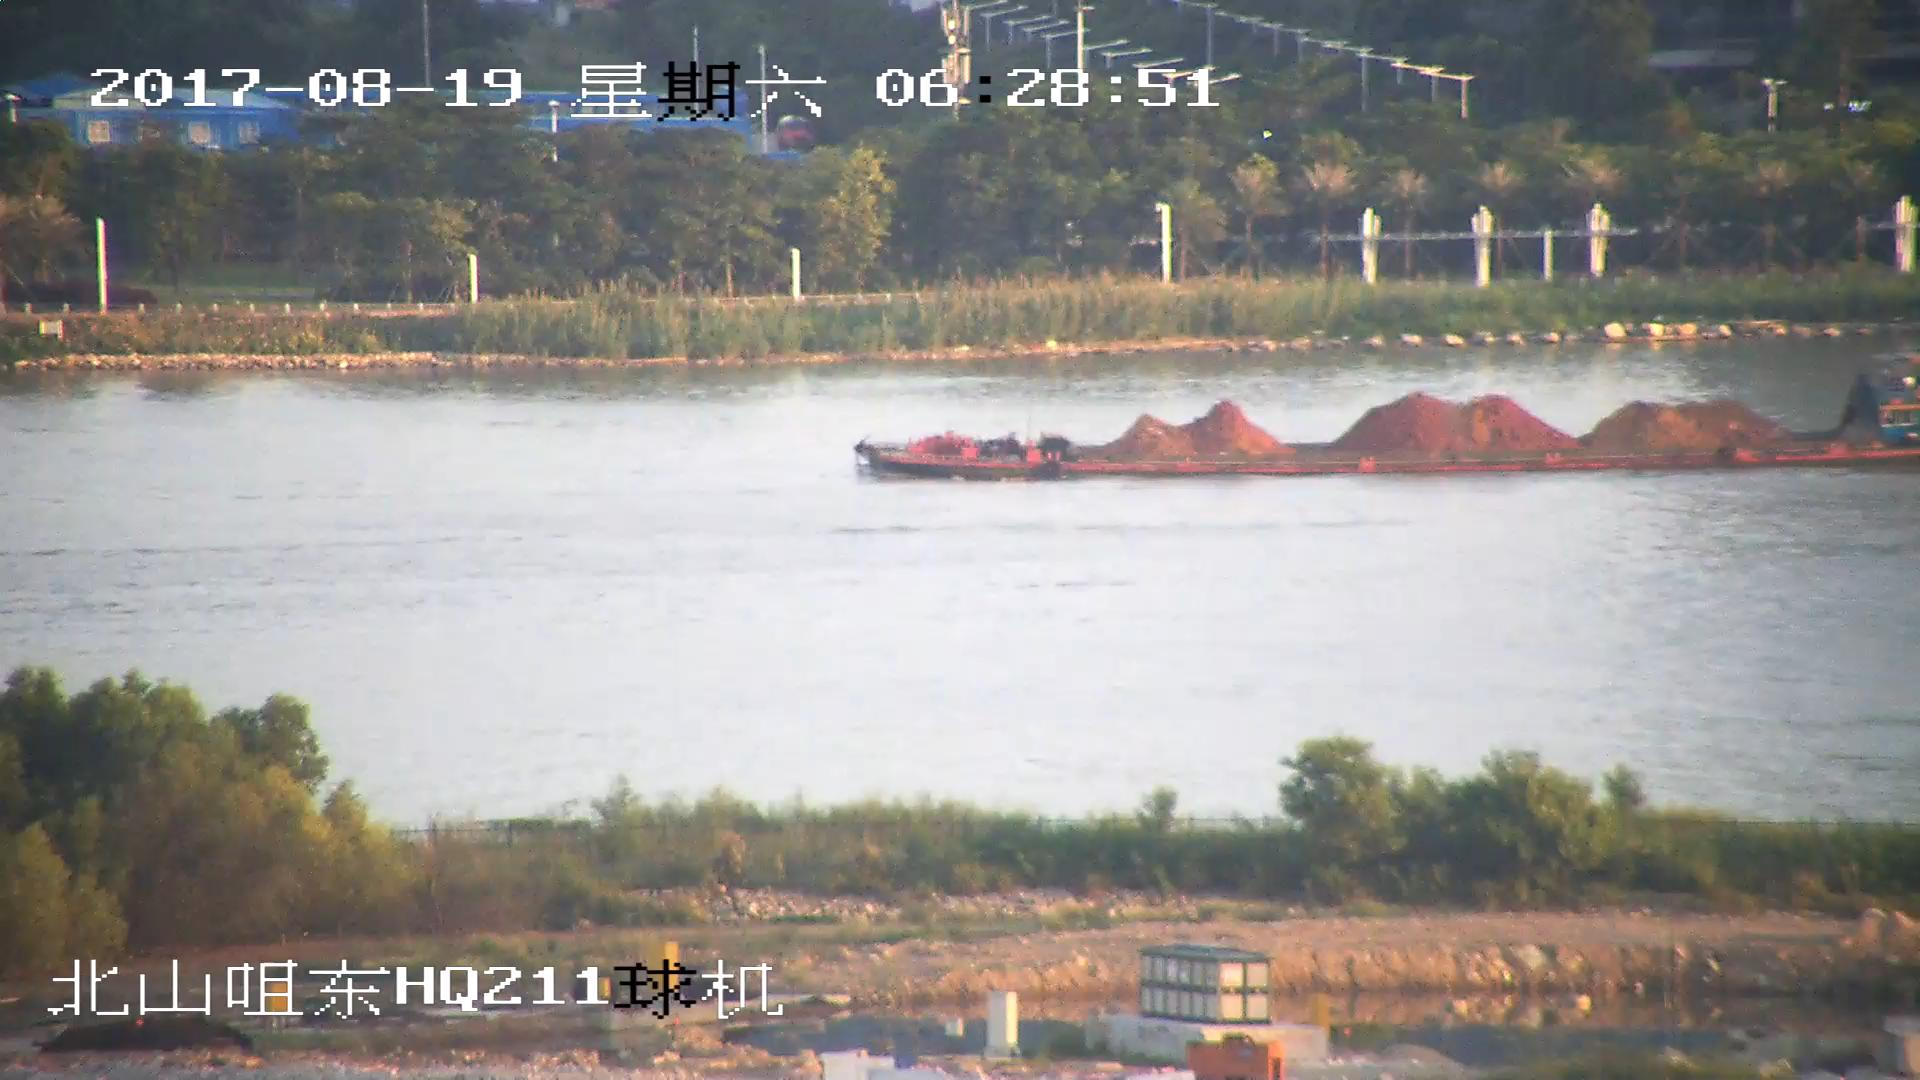ore carrier: (872, 359, 1920, 479)
